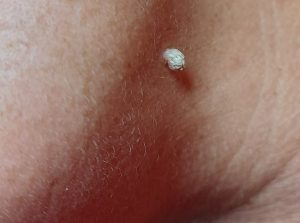Warts: (161, 43, 188, 75)
